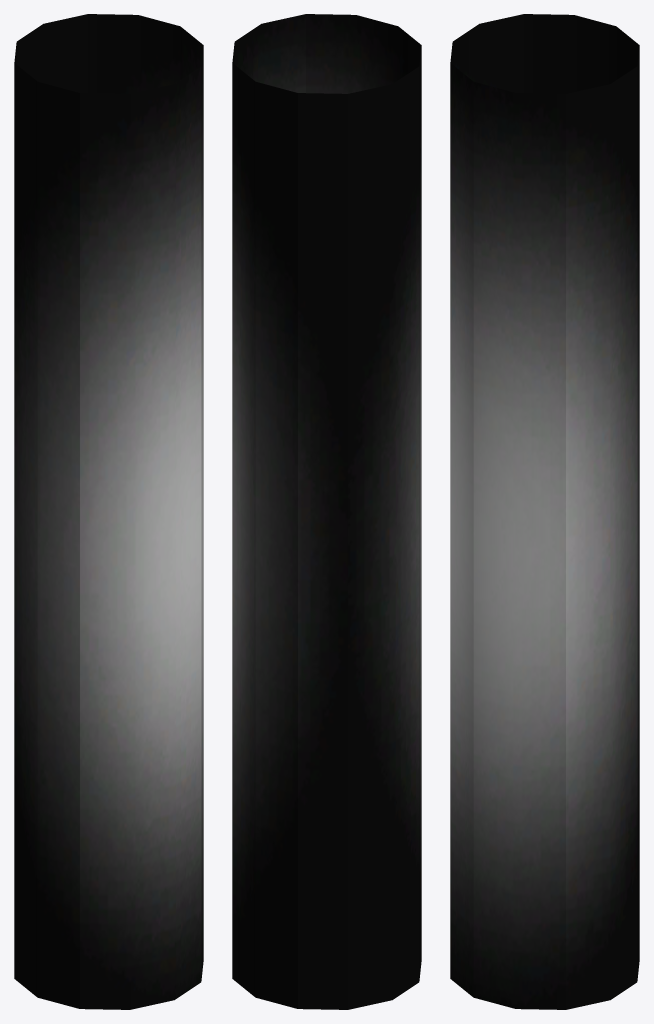
File: vfx_kurp_0172.dae
3 renders of one model, left to right at view 1: azimuth 30°, elevation 25°; view 2: azimuth 150°, elevation 25°; view 3: azimuth 270°, elevation 25°, orthographic.
Visible parts, largest first — view 1: vfx_kurp_0172; view 2: vfx_kurp_0172; view 3: vfx_kurp_0172.
Part boxes in pixels (x1=…): vfx_kurp_0172: x1=14, y1=14, x2=203, y2=1009; vfx_kurp_0172: x1=232, y1=14, x2=421, y2=1009; vfx_kurp_0172: x1=450, y1=14, x2=639, y2=1009.
Size of the model in its own units: 3.62 by 3.62 by 19.35.
1 material, 1 textured.
